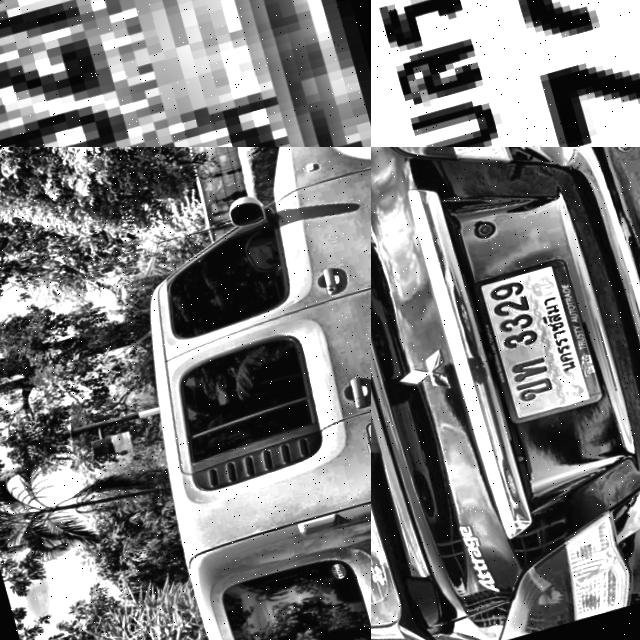license-plate: (0, 0, 371, 147), (371, 0, 640, 147), (461, 254, 603, 430)
